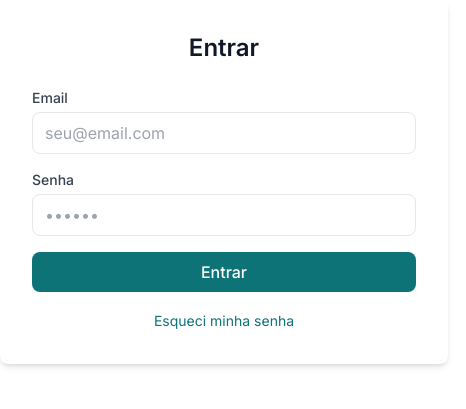
Test: LoginForm › onBlur validation › shows 'Senha deve ter no mínimo 6 caracteres' when senha is too short on blur
Type "abc" into the password field labelled "Senha" at [224, 215], box [32, 194, 416, 236]
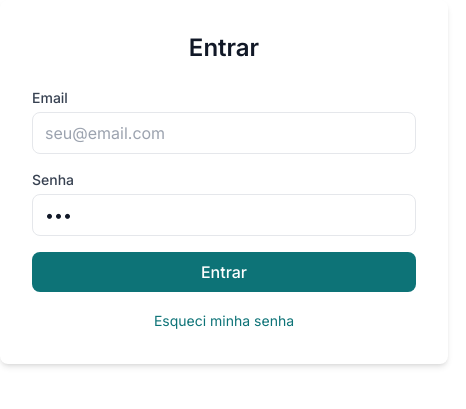
Leave the password field labelled "Senha", box [32, 194, 416, 236]
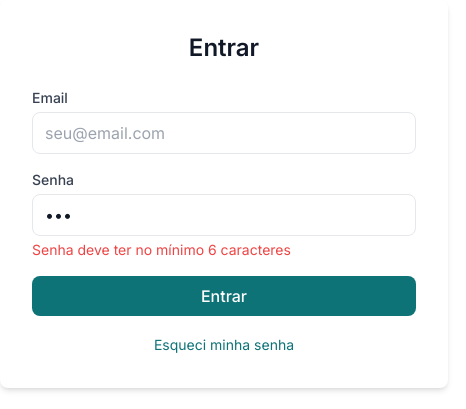
Expected: the text "Senha deve ter no mínimo 6 caracteres" is shown, [32, 241, 291, 258]
